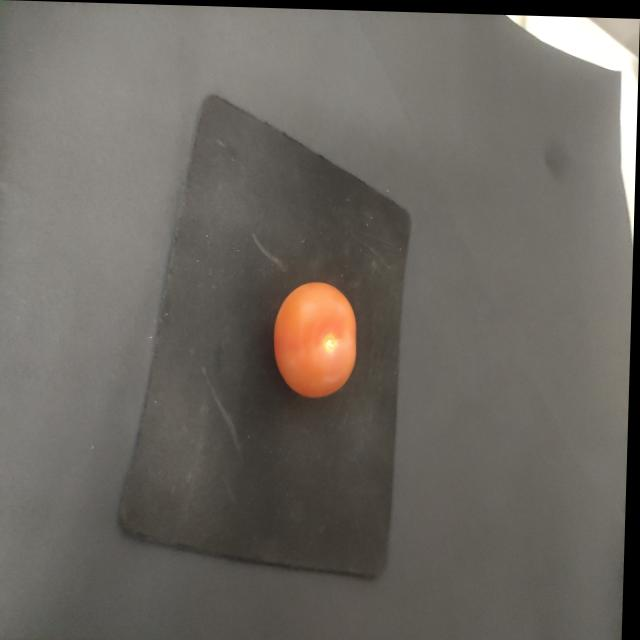sari: (267, 259, 375, 409)
